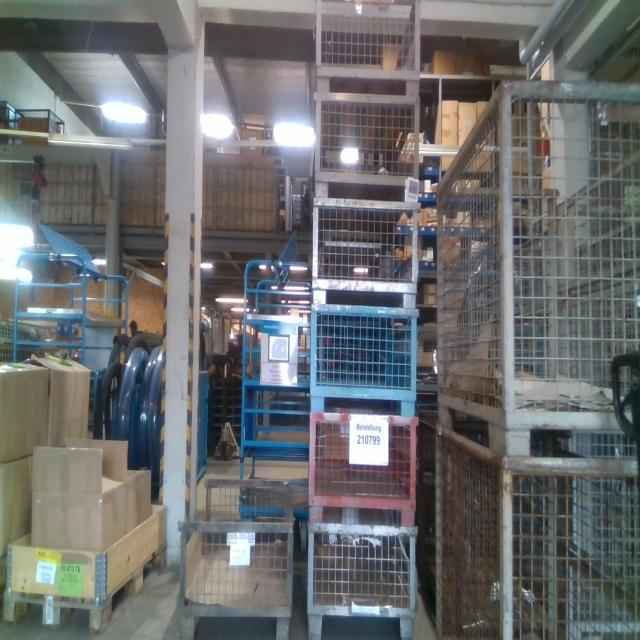pallet: (0, 541, 168, 635)
pallet_truck: (207, 347, 242, 462)
stillage: (432, 62, 638, 453), (428, 425, 639, 635), (178, 469, 298, 639), (304, 514, 420, 637), (304, 306, 420, 419), (306, 199, 425, 307), (309, 91, 421, 199), (303, 419, 420, 522), (308, 0, 426, 95)
